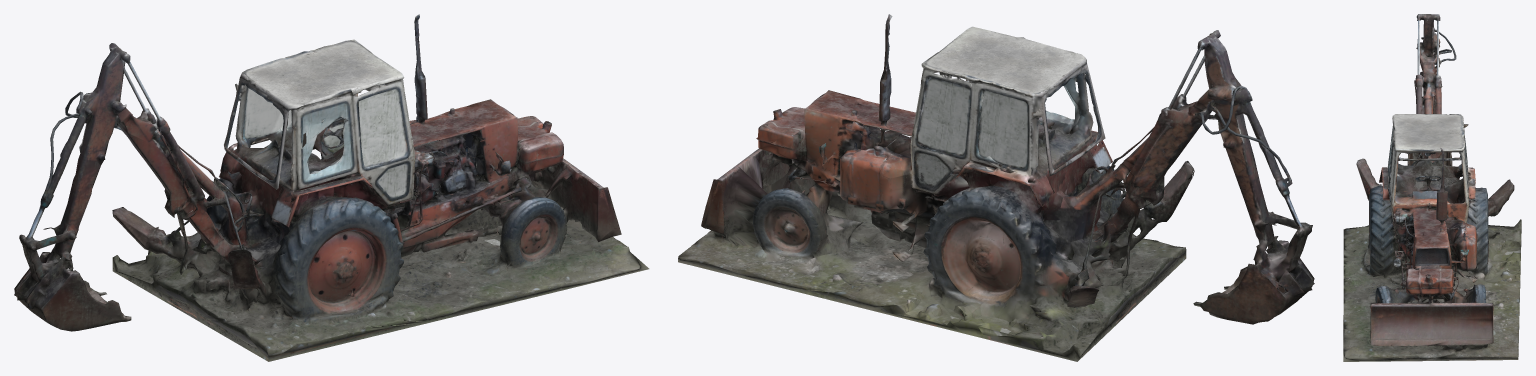
File: Traktor.fbx
3 views of the same model, side by side, from view 1: azimuth 30°, elevation 25°; view 2: azimuth 150°, elevation 25°; view 3: azimuth 270°, elevation 25° (orthographic). The views are drawn at different scales.
Visible parts, largest first — view 1: V2_Tractor; view 2: V2_Tractor; view 3: V2_Tractor.
Part boxes in pixels (x1=…): V2_Tractor: x1=14, y1=14, x2=649, y2=361; V2_Tractor: x1=678, y1=14, x2=1314, y2=361; V2_Tractor: x1=1343, y1=14, x2=1521, y2=361.
Size of the model in its own units: 765 by 372 by 309.
